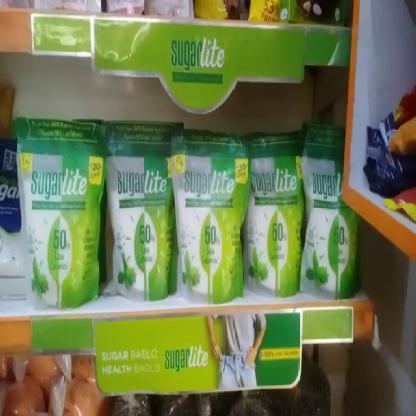SUGARLITE POUCH 500G: (22, 128, 98, 306), (106, 136, 171, 297), (174, 150, 241, 299), (243, 157, 300, 287), (302, 157, 349, 294)
